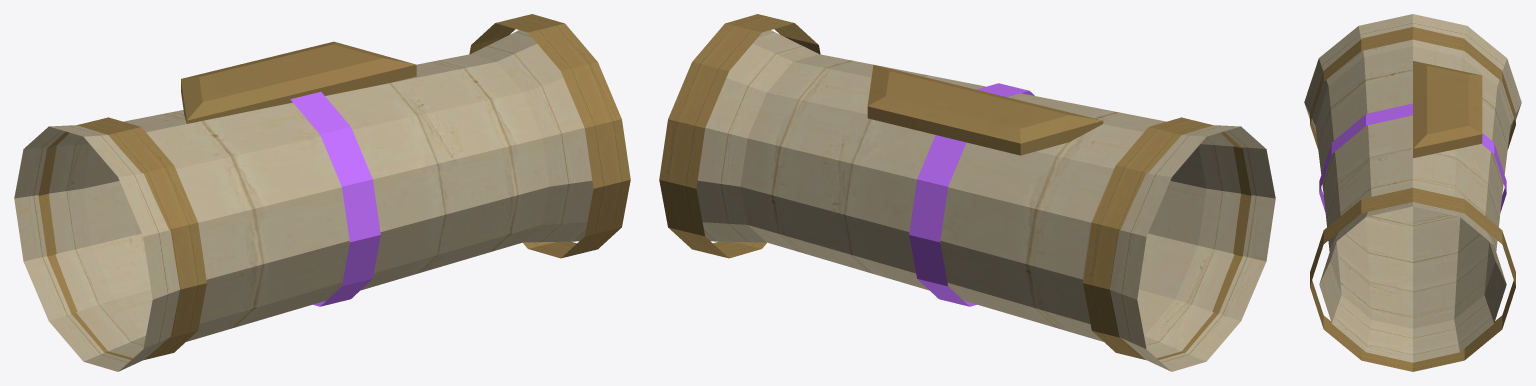
File: eq_future_3_arm.glb
3 renders of one model, left to right at view 1: azimuth 30°, elevation 25°; view 2: azimuth 150°, elevation 25°; view 3: azimuth 270°, elevation 25°, orthographic. The views are drawn at different scales.
Visible parts, largest first — view 1: eq_future_3_arm; view 2: eq_future_3_arm; view 3: eq_future_3_arm.
Boxes of the visible parts, x1=… form: eq_future_3_arm: x1=14, y1=14, x2=630, y2=371; eq_future_3_arm: x1=659, y1=14, x2=1275, y2=371; eq_future_3_arm: x1=1304, y1=14, x2=1521, y2=371.
Size of the model in its own units: 0.2516 by 0.1123 by 0.1253.
3 materials, 3 textured.
